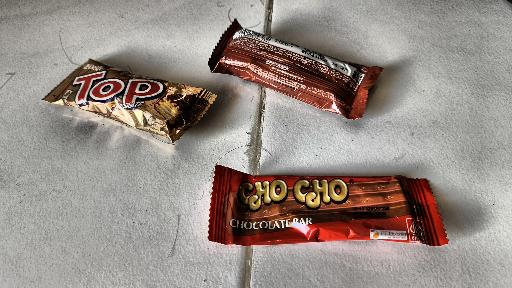chocho: (200, 161, 450, 257)
top: (207, 15, 383, 130), (45, 57, 218, 151)
